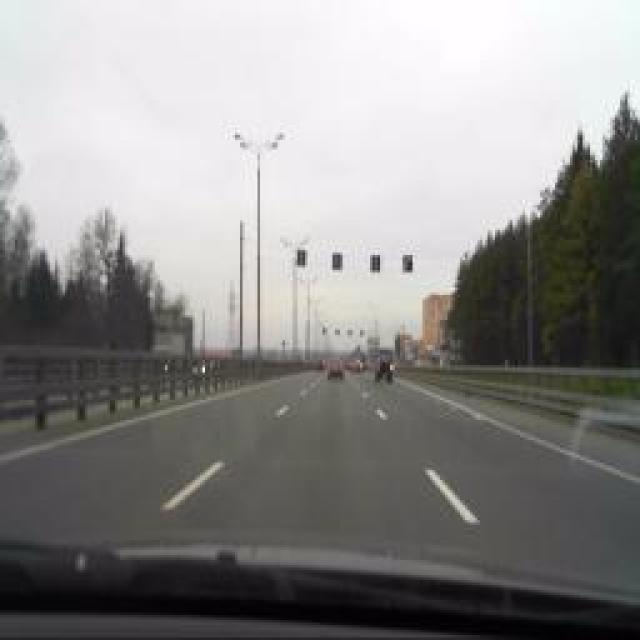sign: (332, 252, 342, 270), (402, 255, 412, 273), (296, 249, 306, 266), (370, 254, 380, 271)
